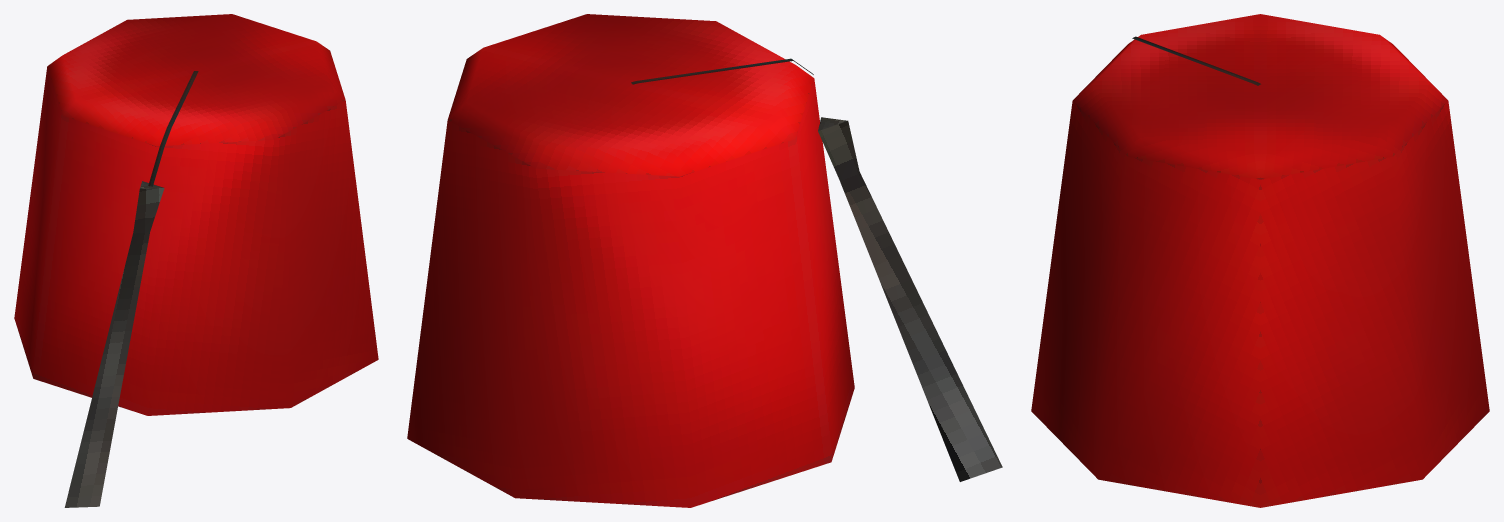
The model's file is tt_m_chr_avt_acc_hat_fez.glb.
The picture shows the model from 3 angles, left to right: view 1: azimuth 30°, elevation 25°; view 2: azimuth 150°, elevation 25°; view 3: azimuth 270°, elevation 25°; orthographic projection. The views are drawn at different scales.
Parts seen in each view (by area): view 1: fexHat; view 2: fexHat; view 3: fexHat.
Part boxes in pixels (box(x1,y1,x2,y2)): fexHat: box(14, 14, 378, 507); fexHat: box(407, 14, 1002, 507); fexHat: box(1031, 14, 1489, 507).
Size of the model in its own units: 2.07 by 1.71 by 1.78.
1 material, 1 textured.
